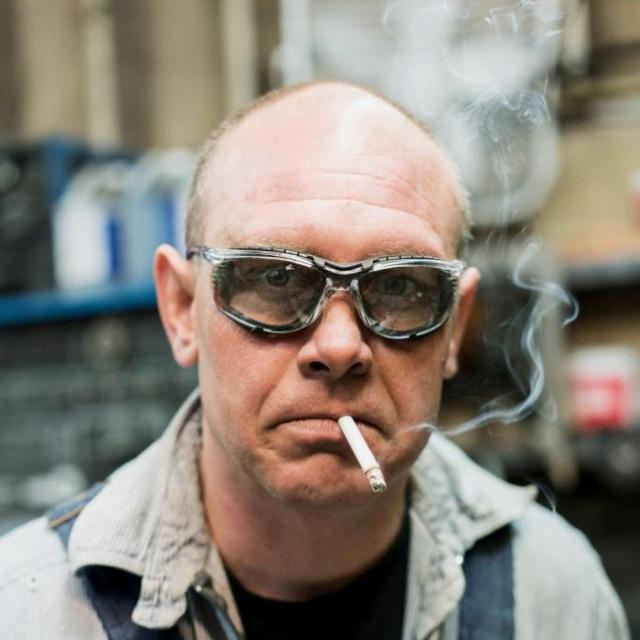cigarette: (321, 396, 414, 502)
